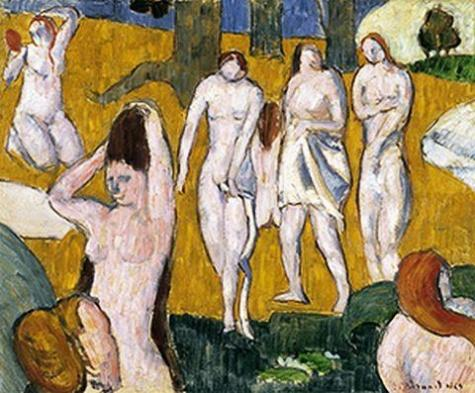person: (53, 108, 181, 392), (275, 33, 356, 331), (187, 49, 259, 336), (348, 32, 411, 287), (375, 253, 475, 393), (7, 8, 88, 178), (25, 288, 120, 393), (246, 98, 283, 222)
